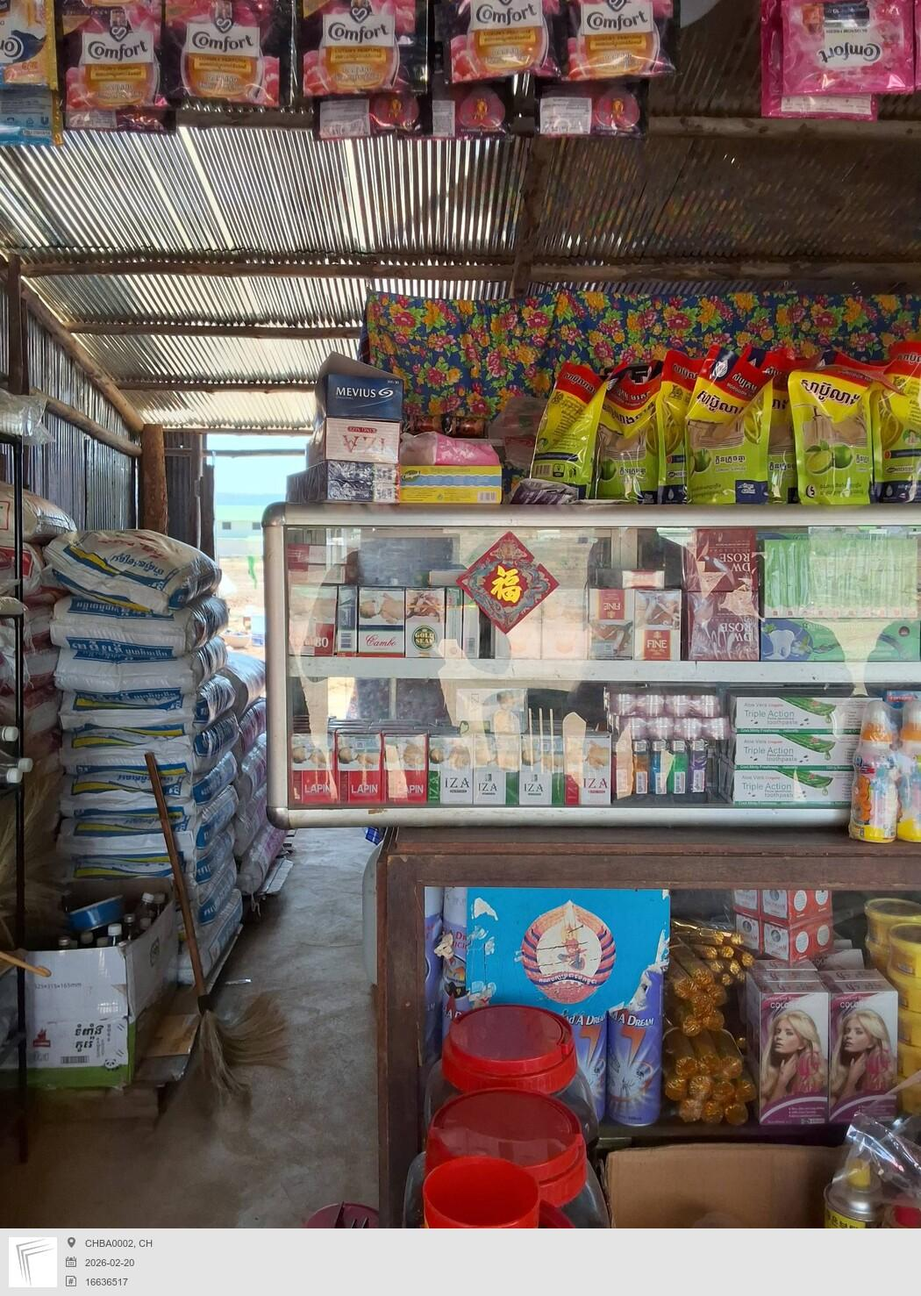cigarette_pack: (421, 1155, 569, 1228), (285, 731, 341, 804), (559, 737, 609, 808), (632, 589, 681, 661), (586, 589, 635, 660), (290, 584, 336, 658), (472, 736, 519, 807), (360, 586, 408, 655), (519, 734, 563, 809), (427, 737, 473, 808), (336, 734, 382, 803), (408, 586, 449, 661), (381, 736, 427, 802), (455, 691, 527, 732), (543, 590, 586, 656), (336, 586, 360, 656), (444, 588, 466, 658), (594, 566, 663, 588), (290, 565, 362, 586), (285, 544, 359, 564), (466, 587, 480, 656)
